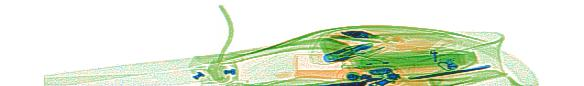plasticBottleWithaNozzle: (292, 49, 381, 81)
